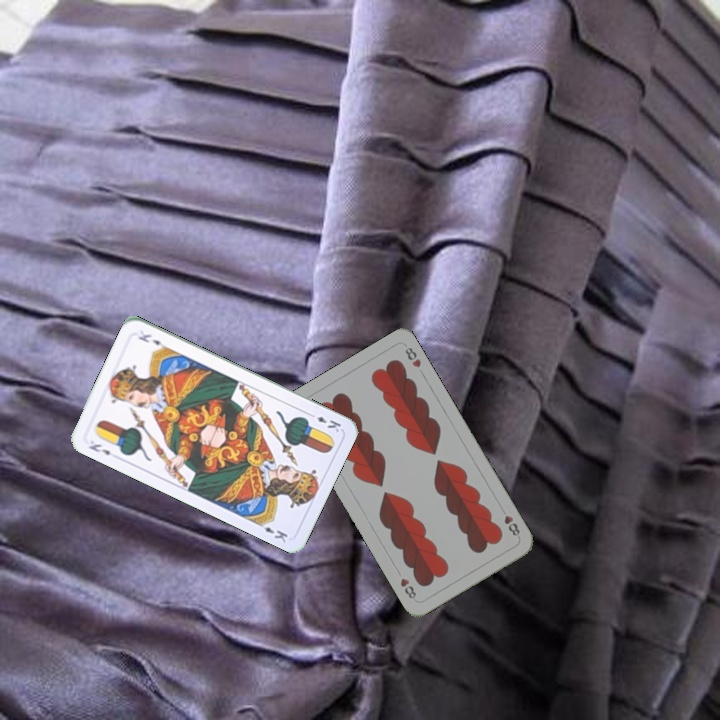EK: (305, 409, 344, 435), (85, 440, 113, 458)
H8: (496, 504, 523, 538)
